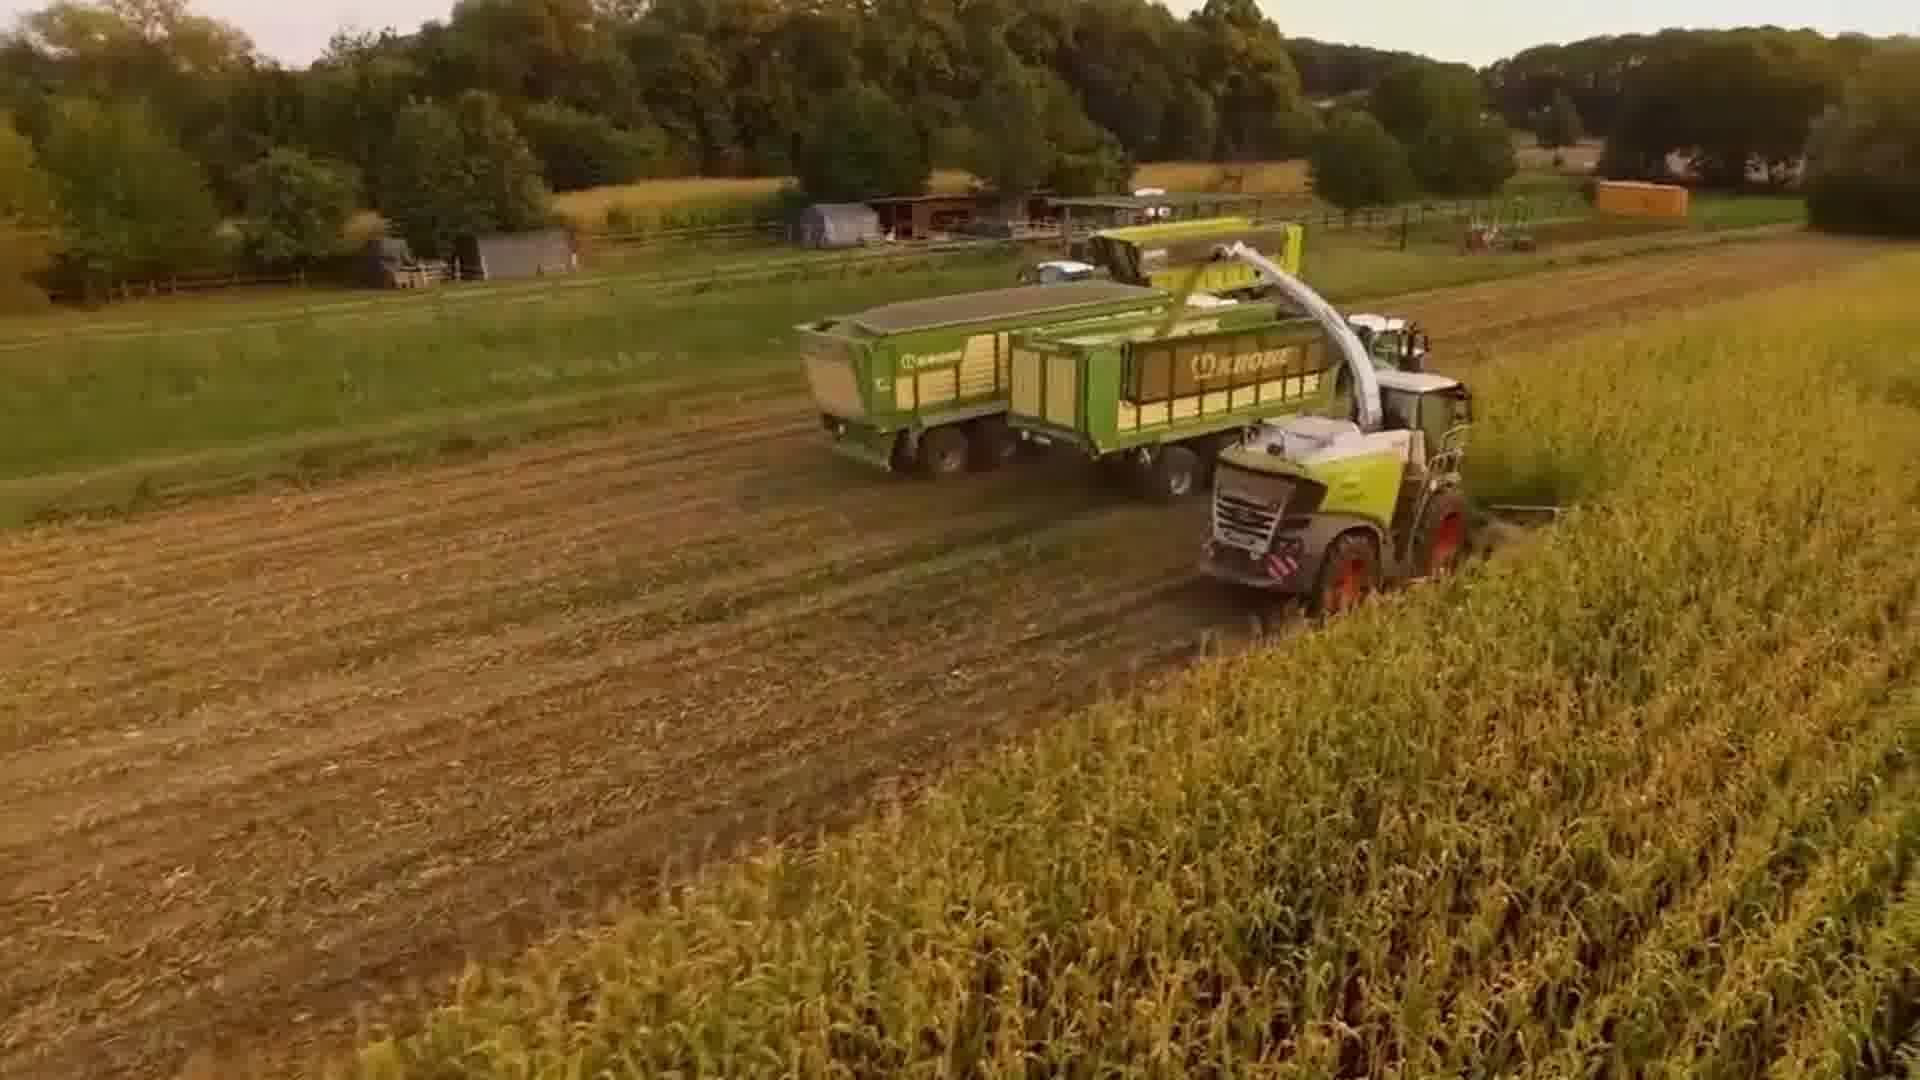combine harvester: (1203, 239, 1577, 622)
tractor: (1353, 298, 1437, 376), (1018, 251, 1100, 289)
trailer: (793, 273, 1167, 501), (1001, 291, 1360, 500), (1091, 214, 1313, 303)
